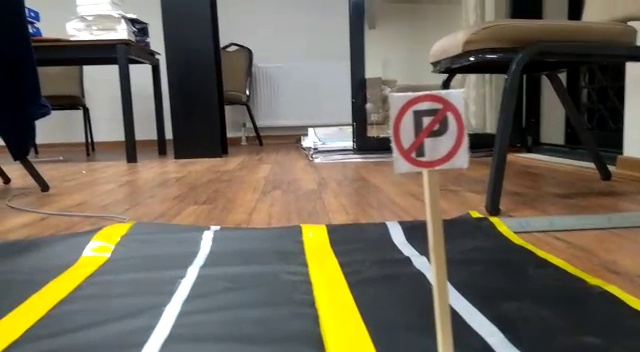park_yapilmaz: (384, 92, 468, 168)
